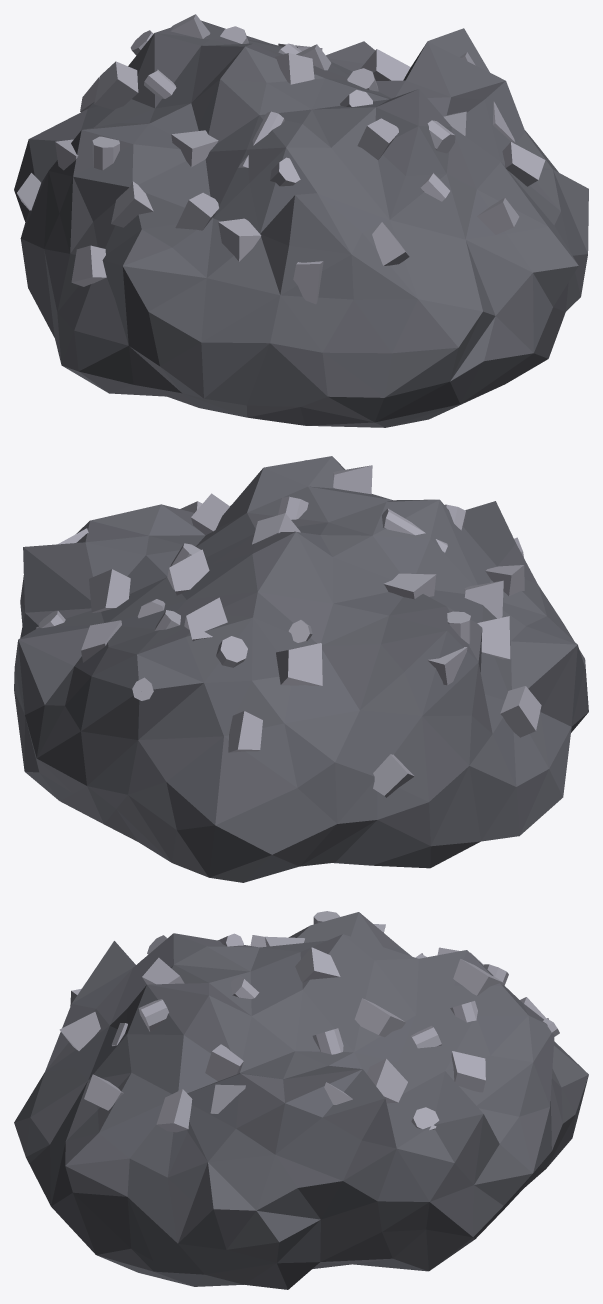
The model's file is TinDeposit_v2.fbx.
The picture shows the model from 3 angles, top to bottom: view 1: azimuth 30°, elevation 25°; view 2: azimuth 150°, elevation 25°; view 3: azimuth 270°, elevation 25°; orthographic projection. The views are drawn at different scales.
Parts seen in each view (by area): view 1: Icosphere, Cylinder.014; view 2: Icosphere, Cylinder.014; view 3: Icosphere, Cylinder.014.
Part boxes in pixels (x1,y1,x2,y2): Icosphere: (14,20,588,427); Cylinder.014: (17,14,545,304); Icosphere: (14,456,588,882); Cylinder.014: (36,460,541,797); Icosphere: (14,912,588,1289); Cylinder.014: (59,911,559,1132).
Bounding box in the file's own units: 590 × 358 × 642.
Materials: 2 (2 with a texture image).
